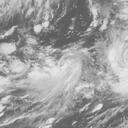cyclone: (102, 12, 127, 94)
